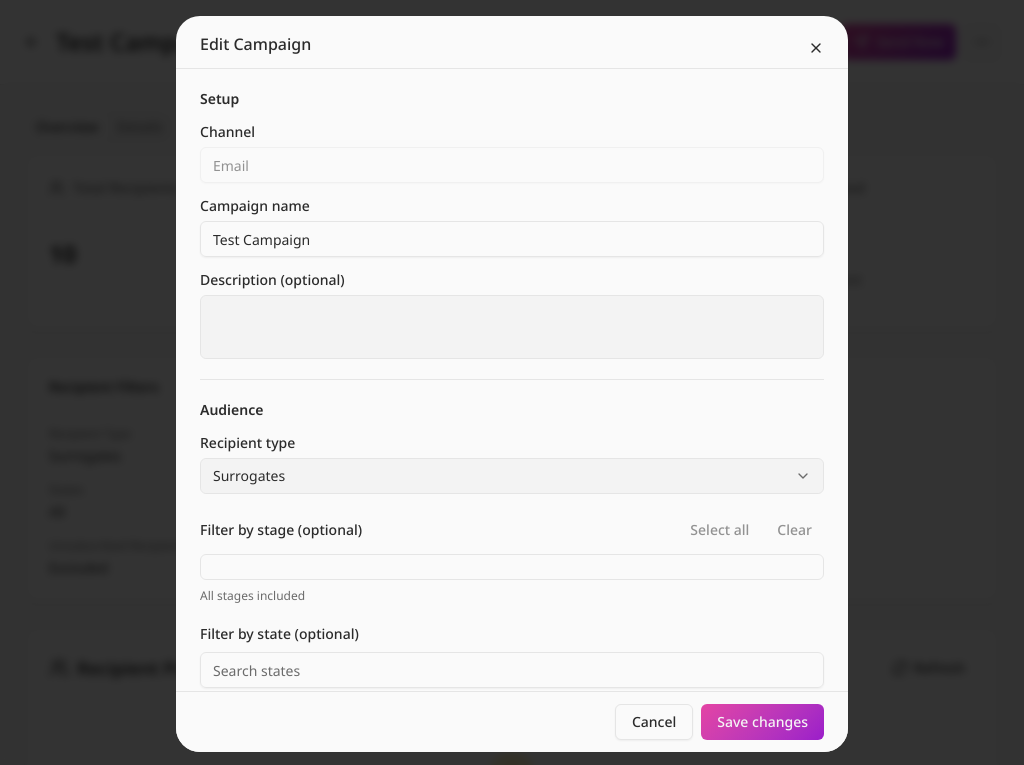
Test: CampaignDetailPage › auto-opens the requested edit dialog once and lets the user cancel it
expect the heading "Edit Campaign" is shown: met, box [200,33,311,55]
Click the button "Cancel" at (654, 722), box [615,704,693,740]
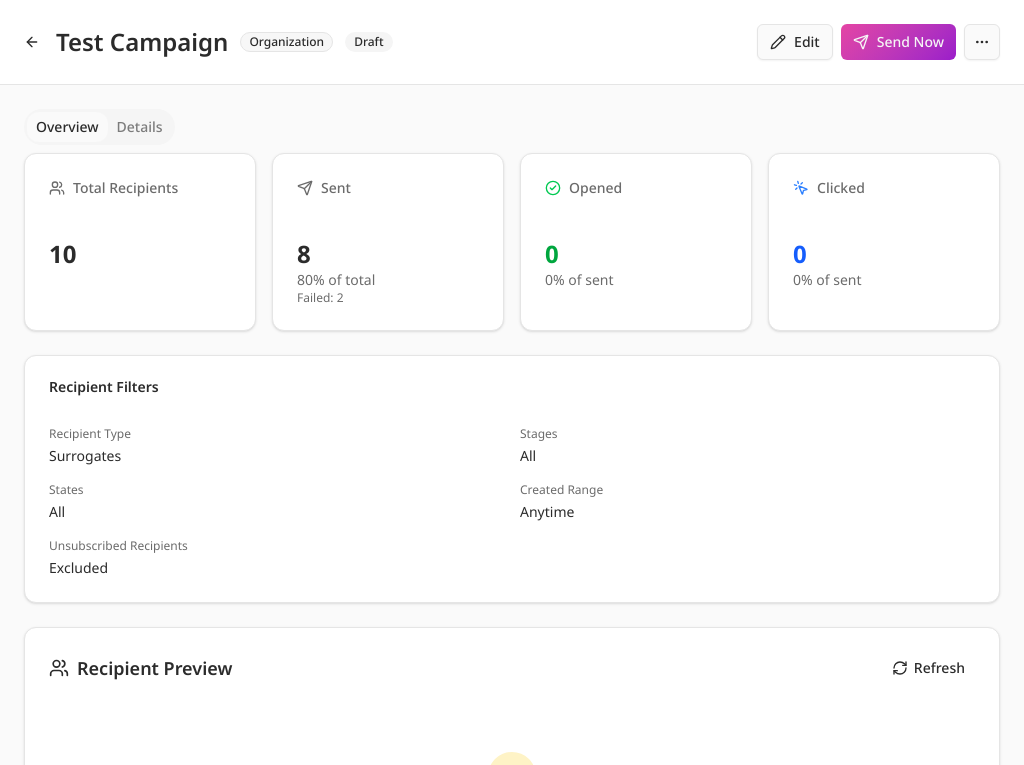
expect the heading "Edit Campaign" is gone: met
